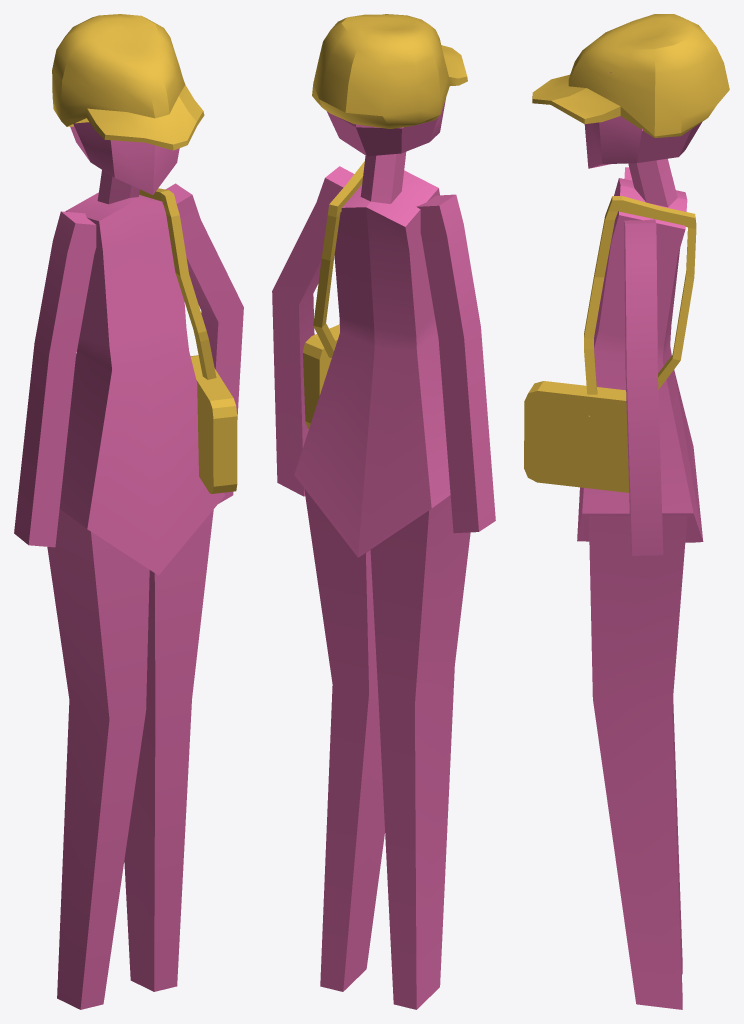
File: woman04.glb
3 views of the same model, side by side, from view 1: azimuth 30°, elevation 25°; view 2: azimuth 150°, elevation 25°; view 3: azimuth 270°, elevation 25° (orthographic).
Parts seen in each view (by area): view 1: woman04_col; view 2: woman04_col; view 3: woman04_col.
Boxes of the visible parts, left/top/right/bottom form: woman04_col: left=14, top=14, right=243, bottom=1009; woman04_col: left=272, top=14, right=495, bottom=1009; woman04_col: left=524, top=14, right=729, bottom=1009.
Size of the model in its own units: 2.86 by 12.46 by 2.43.
